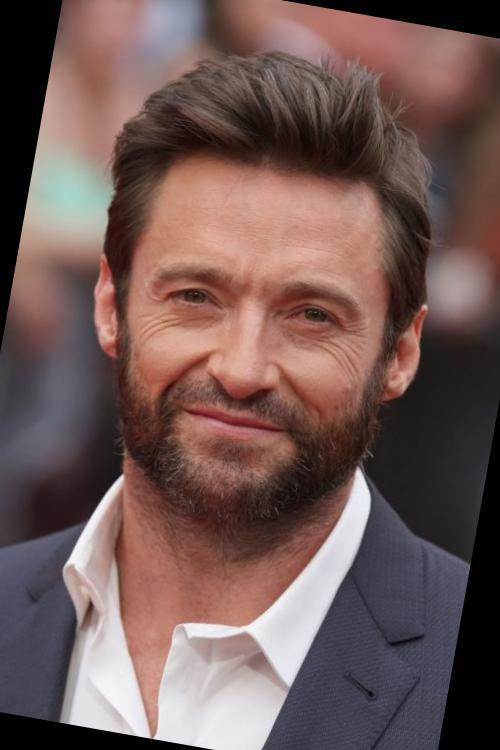Sober: (132, 147, 374, 479)
